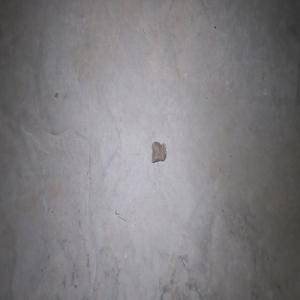Rock: (151, 140, 166, 162)
